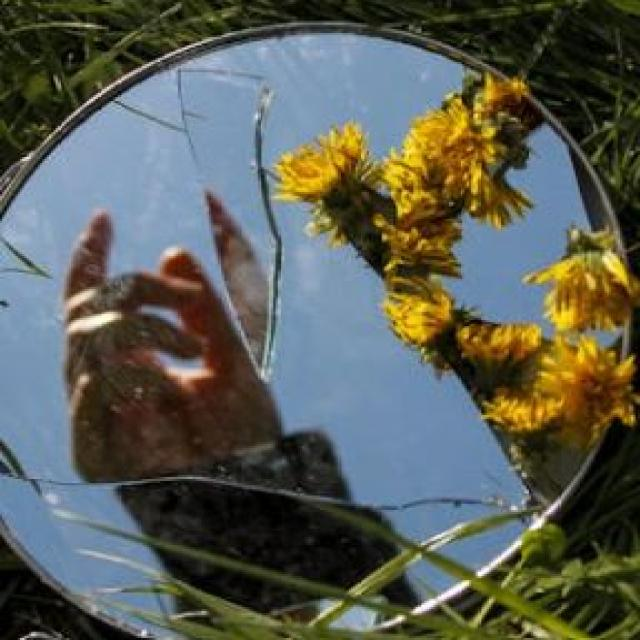electronic: (0, 22, 622, 630)
